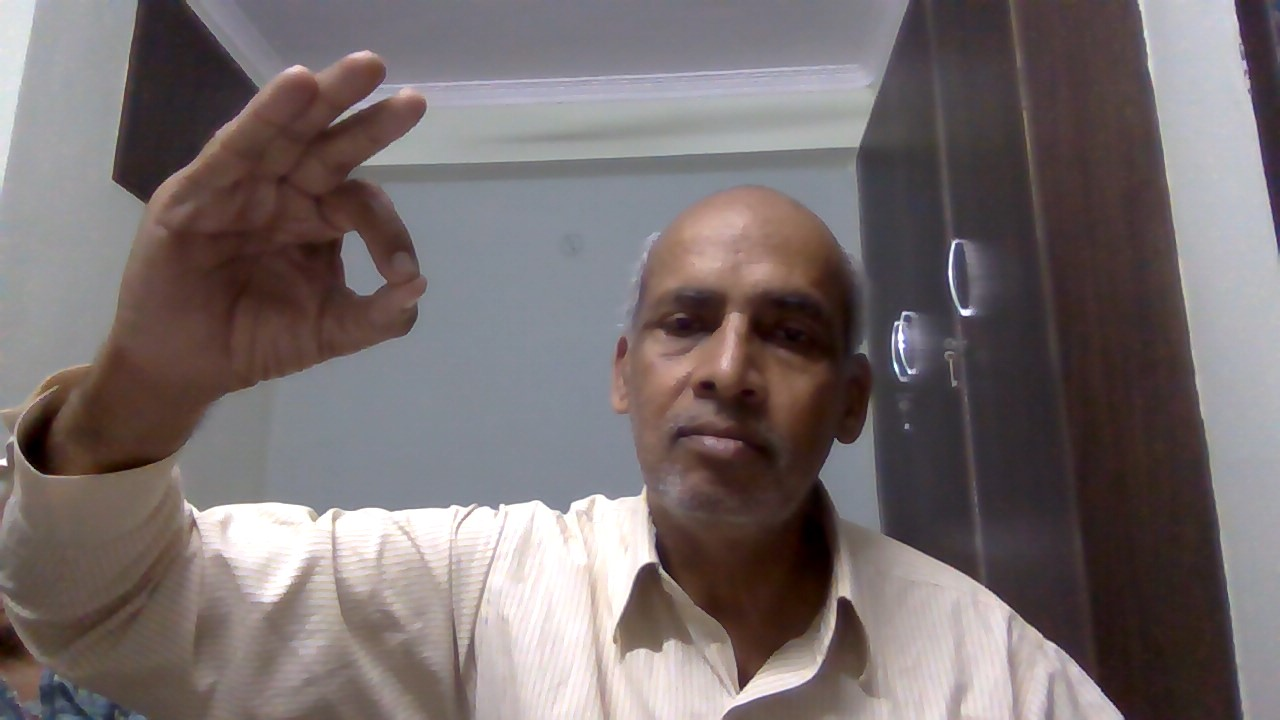Copy: (98, 33, 445, 442)
